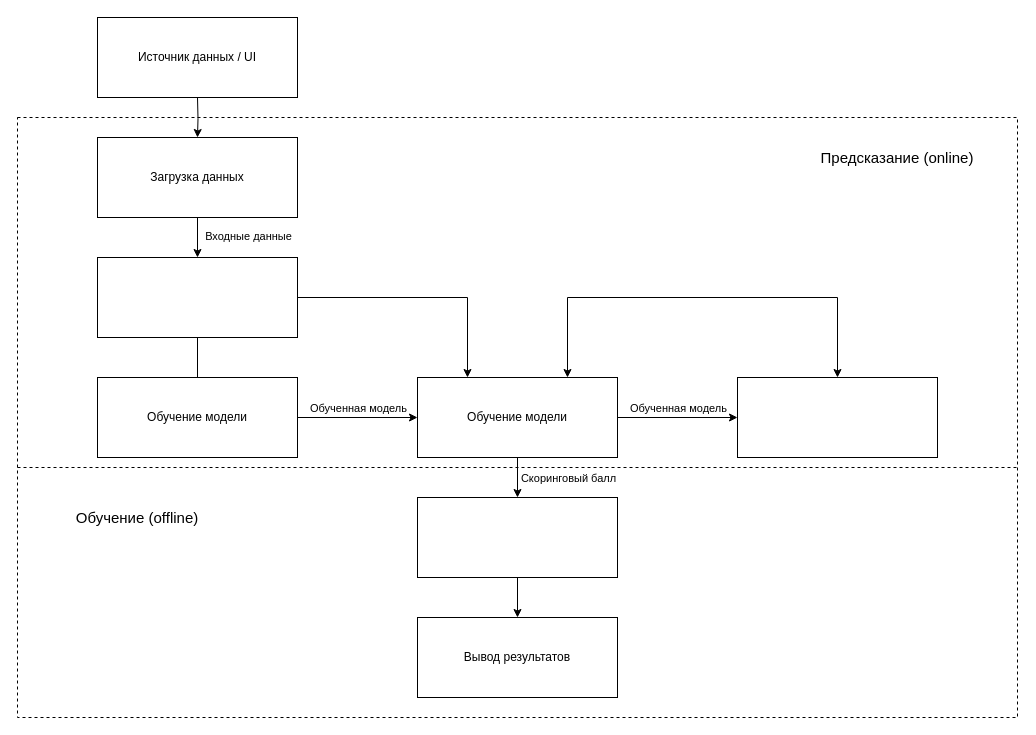
Some shapes in this 1036 by 735 pixel diagram are drawn without their labels. Here are the shapes that lost their labels. From the top down, the centre of each, then its label:
At point (197, 297): "Предобработка".
At point (837, 417): "Предсказание".
At point (517, 537): "Интерпретация".
